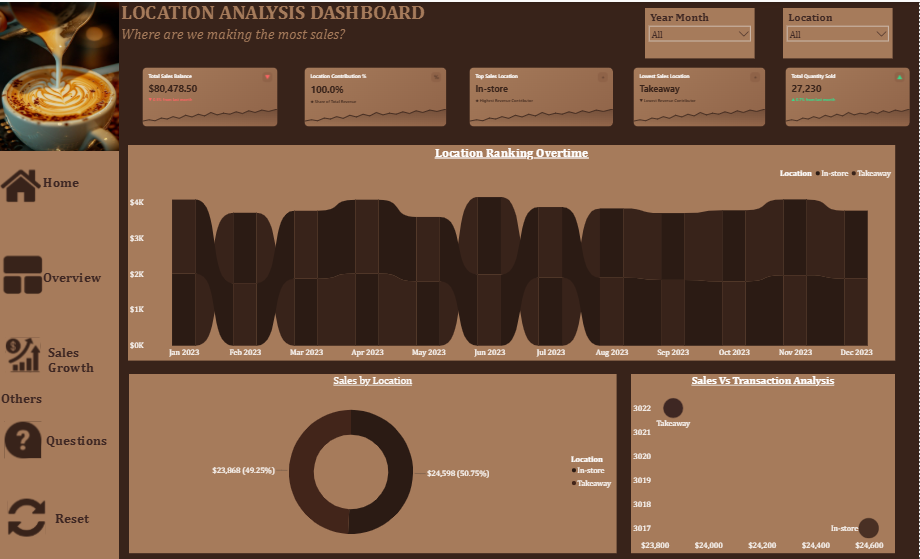

The dashboard page shown, as its layout file describes it:
{"tool":"powerbi","page":{"name":"Location","canvas":[2300,1400],"ordinal":3},"visuals":[{"type":"shape","box":[0,0,2300,1400],"z":0},{"type":"shape","box":[0,377.4,300,1022.6],"z":1},{"type":"image","box":[0,0,300,377.4],"z":2},{"type":"textbox","title":"LOCATION ANALYSIS DASHBOARD","box":[300,0,850,61.9],"z":3},{"type":"textbox","title":"Where are we making the most sales?","box":[300,61.9,619.4,51.6],"z":4},{"type":"htmlContent443BE3AD55E043BF878BED274D3A6855","fields":{"content":["HTML DAX.HTML Lowest Sales Location"]},"box":[1580.8,161.5,342.3,165.4],"z":5},{"type":"htmlContent443BE3AD55E043BF878BED274D3A6855","fields":{"content":["HTML DAX.HTML Location Contribution %"]},"box":[757.7,161.5,367.3,165.4],"z":6},{"type":"htmlContent443BE3AD55E043BF878BED274D3A6855","fields":{"content":["HTML DAX.HTML Top Sales Location"]},"box":[1171.2,161.5,371.2,165.4],"z":7},{"type":"htmlContent443BE3AD55E043BF878BED274D3A6855","fields":{"content":["HTML DAX.HTML Total Saless"]},"box":[351.9,161.5,350,165.4],"z":9},{"type":"htmlContent443BE3AD55E043BF878BED274D3A6855","fields":{"content":["HTML DAX.HTML Total Quantity Sold"]},"box":[1959.6,161.5,323.1,169.2],"z":10},{"type":"ribbonChart","title":"Location Ranking Overtime","fields":{"Category":["Date Table.Year Month"],"Series":["dirty_cafe_sales (1).Location"],"Y":["DAX MEASURE.Total Sales"]},"box":[322.4,363.3,1918.4,538.8],"z":11},{"type":"donutChart","title":"Sales by Location","fields":{"Category":["dirty_cafe_sales (1).Location"],"Y":["DAX MEASURE.Total Sales"]},"box":[323.8,935.7,1219,447.6],"z":12},{"type":"scatterChart","title":"Sales Vs Transaction Analysis ","fields":{"Category":["dirty_cafe_sales (1).Location"],"Size":["DAX MEASURE.Average Sales"],"X":["DAX MEASURE.Total Sales"],"Y":["DAX MEASURE.Total Transactions"]},"box":[1581,935.7,659.5,447.6],"z":13},{"type":"actionButton","box":[0,409.5,297,109.1],"z":14},{"type":"actionButton","box":[11.9,840.5,281,95.2],"z":15},{"type":"actionButton","box":[9.5,1050,281.8,100],"z":16},{"type":"actionButton","box":[16.7,1242.9,271,103.2],"z":17},{"type":"textbox","title":"Home","box":[104.8,435.7,145.2,54.8],"z":18},{"type":"actionButton","box":[4.8,633.3,297,109.1],"z":19},{"type":"textbox","title":"Overview","box":[104.8,671.4,169,47.6],"z":20},{"type":"textbox","title":"Sales Growth","box":[116.7,859.5,157.1,76.2],"z":21},{"type":"textbox","title":"Others","box":[0,973.8,157.1,52.4],"z":22},{"type":"textbox","title":"Questions","box":[111.9,1081,176.2,38.1],"z":23},{"type":"textbox","title":"Reset","box":[135.7,1276.2,157.1,38.1],"z":24},{"type":"slicer","fields":{"Values":["Date Table.Year Month"]},"box":[1614.3,19,274.2,125.8],"z":25},{"type":"slicer","fields":{"Values":["dirty_cafe_sales (1).Location"]},"box":[1959.5,19,273.8,126.2],"z":26}]}

Visuals, with their boxes in screenshot pixels (x1, y1, x2, y2), scaled from the page's 2300x1400 canvas onto the 920x559 screenshot:
shape: {"x1": 0, "y1": 0, "x2": 919, "y2": 558}
shape: {"x1": 0, "y1": 151, "x2": 120, "y2": 558}
image: {"x1": 0, "y1": 0, "x2": 120, "y2": 151}
"LOCATION ANALYSIS DASHBOARD" textbox: {"x1": 120, "y1": 0, "x2": 460, "y2": 25}
"Where are we making the most sales?" textbox: {"x1": 120, "y1": 25, "x2": 368, "y2": 45}
htmlContent443BE3AD55E043BF878BED274D3A6855 - HTML DAX.HTML Lowest Sales Location: {"x1": 632, "y1": 64, "x2": 769, "y2": 131}
htmlContent443BE3AD55E043BF878BED274D3A6855 - HTML DAX.HTML Location Contribution %: {"x1": 303, "y1": 64, "x2": 450, "y2": 131}
htmlContent443BE3AD55E043BF878BED274D3A6855 - HTML DAX.HTML Top Sales Location: {"x1": 468, "y1": 64, "x2": 617, "y2": 131}
htmlContent443BE3AD55E043BF878BED274D3A6855 - HTML DAX.HTML Total Saless: {"x1": 141, "y1": 64, "x2": 281, "y2": 131}
htmlContent443BE3AD55E043BF878BED274D3A6855 - HTML DAX.HTML Total Quantity Sold: {"x1": 784, "y1": 64, "x2": 913, "y2": 132}
"Location Ranking Overtime" ribbonChart: {"x1": 129, "y1": 145, "x2": 896, "y2": 360}
"Sales by Location" donutChart: {"x1": 130, "y1": 374, "x2": 617, "y2": 552}
"Sales Vs Transaction Analysis " scatterChart: {"x1": 632, "y1": 374, "x2": 896, "y2": 552}
actionButton: {"x1": 0, "y1": 164, "x2": 119, "y2": 207}
actionButton: {"x1": 5, "y1": 336, "x2": 117, "y2": 374}
actionButton: {"x1": 4, "y1": 419, "x2": 117, "y2": 459}
actionButton: {"x1": 7, "y1": 496, "x2": 115, "y2": 537}
"Home" textbox: {"x1": 42, "y1": 174, "x2": 100, "y2": 196}
actionButton: {"x1": 2, "y1": 253, "x2": 121, "y2": 296}
"Overview" textbox: {"x1": 42, "y1": 268, "x2": 110, "y2": 287}
"Sales Growth" textbox: {"x1": 47, "y1": 343, "x2": 110, "y2": 374}
"Others" textbox: {"x1": 0, "y1": 389, "x2": 63, "y2": 410}
"Questions" textbox: {"x1": 45, "y1": 432, "x2": 115, "y2": 447}
"Reset" textbox: {"x1": 54, "y1": 510, "x2": 117, "y2": 525}
slicer - Date Table.Year Month: {"x1": 646, "y1": 8, "x2": 755, "y2": 58}
slicer - dirty_cafe_sales (1).Location: {"x1": 784, "y1": 8, "x2": 893, "y2": 58}
